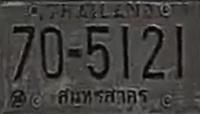0: (40, 26, 64, 79)
1: (121, 25, 129, 79), (175, 25, 182, 78)
2: (141, 25, 164, 79)
5: (86, 25, 110, 79)
7: (12, 25, 34, 80)
SKN: (56, 85, 151, 108)
